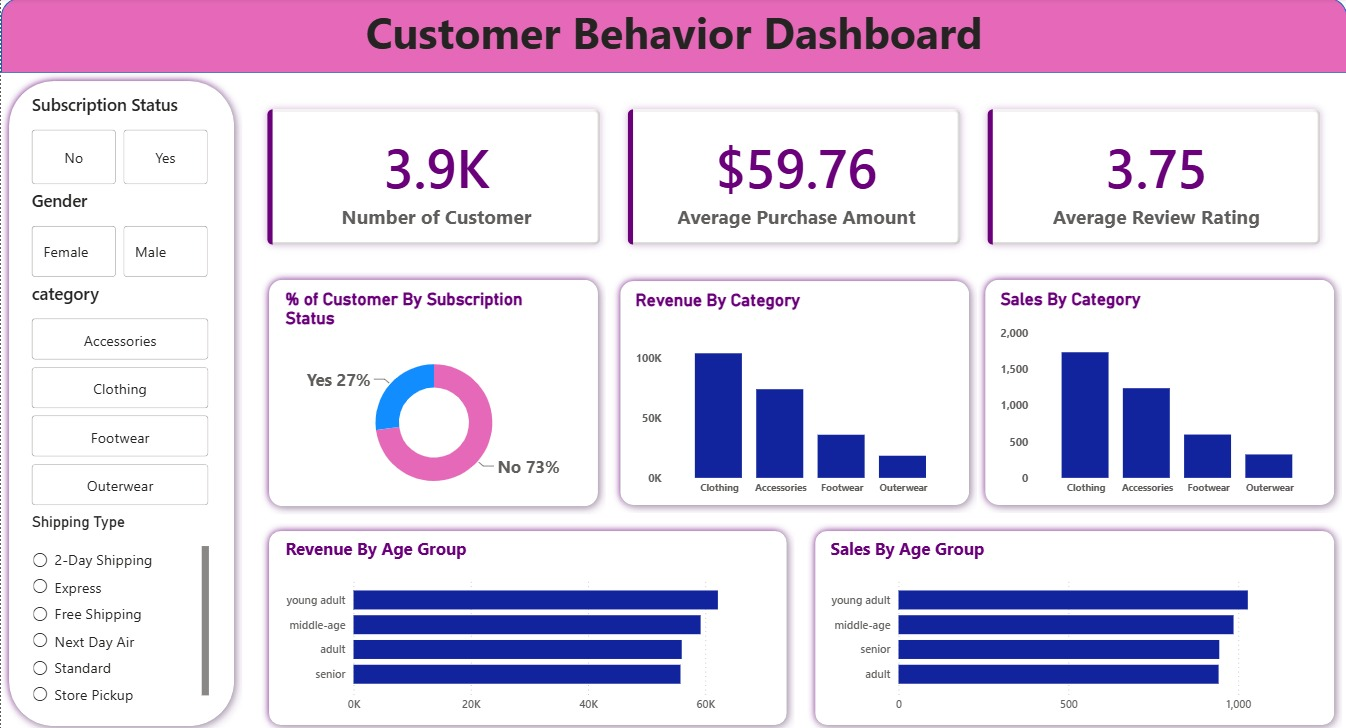

This screenshot's page, from the dashboard's own definition file:
{"tool":"powerbi","page":{"name":"Page 1","canvas":[1500,820],"ordinal":0},"visuals":[{"type":"cardVisual","fields":{"Data":["customer_behavior customer.Number of Customer","customer_behavior customer.Average Purchase Amount","customer_behavior customer.Average Review Rating"]},"box":[268.8,96.1,1231.1,207.5],"z":0},{"type":"shape","box":[0,0,1499.9,83.6],"z":1000},{"type":"textbox","box":[0,0,1499.9,83.6],"z":2000},{"type":"shape","box":[289.7,305,384.4,270.2],"z":3000},{"type":"donutChart","title":"% of Customer By Subscription Status","fields":{"Category":["customer_behavior customer.subscription_status"],"Y":["CountNonNull(customer_behavior customer.customer_id)"]},"box":[312,324.5,341.2,238.1],"z":4000},{"type":"shape","box":[681,306.4,406.7,267.4],"z":5000},{"type":"clusteredColumnChart","title":"Revenue By Category","fields":{"Y":["Sum(customer_behavior customer.purchase_amount)"],"Category":["customer_behavior customer.category"]},"box":[701.9,325.9,363.5,236.8],"z":6000},{"type":"shape","box":[1087.7,305,406.7,268.8],"z":7000},{"type":"clusteredColumnChart","title":"Sales By Category","fields":{"Category":["customer_behavior customer.category"],"Y":["CountNonNull(customer_behavior customer.customer_id)"]},"box":[1108.6,324.5,364.9,238.1],"z":8000},{"type":"shape","box":[0,83.6,268.8,736.7],"z":9000},{"type":"advancedSlicerVisual","fields":{"Values":["customer_behavior customer.subscription_status"]},"box":[29.2,105.8,207.5,107.2],"z":10000},{"type":"advancedSlicerVisual","fields":{"Values":["customer_behavior customer.category"]},"box":[29.2,316.1,207.5,257.6],"z":11000},{"type":"listSlicer","fields":{"Values":["customer_behavior customer.shipping_type"]},"box":[29.2,573.8,207.5,220],"z":12000},{"type":"shape","box":[289.7,584.9,594.7,234],"z":13000},{"type":"clusteredBarChart","title":"Revenue By Age Group","fields":{"Y":["Sum(customer_behavior customer.purchase_amount)"],"Category":["customer_behavior customer.age_group"]},"box":[312,600.2,554.3,204.7],"z":14000},{"type":"shape","box":[898.3,584.9,596.1,234],"z":15000},{"type":"clusteredBarChart","title":"Sales By Age Group","fields":{"Y":["CountNonNull(customer_behavior customer.customer_id)"],"Category":["customer_behavior customer.age_group"]},"box":[919.2,600.2,554.3,204.7],"z":16000},{"type":"advancedSlicerVisual","fields":{"Values":["customer_behavior customer.gender"]},"box":[29.2,213.1,207.5,103.1],"z":16001}]}

Visuals, with their boxes in screenshot pixels (x1, y1, x2, y2), scaled from the page's 1500x820 canvas onto the 1346x728 screenshot:
cardVisual - customer_behavior customer.Number of Customer x customer_behavior customer.Average Purchase Amount: {"left": 241, "top": 85, "right": 1345, "bottom": 270}
shape: {"left": 0, "top": 0, "right": 1345, "bottom": 74}
textbox: {"left": 0, "top": 0, "right": 1345, "bottom": 74}
shape: {"left": 260, "top": 271, "right": 605, "bottom": 511}
"% of Customer By Subscription Status" donutChart: {"left": 280, "top": 288, "right": 586, "bottom": 499}
shape: {"left": 611, "top": 272, "right": 976, "bottom": 509}
"Revenue By Category" clusteredColumnChart: {"left": 630, "top": 289, "right": 956, "bottom": 500}
shape: {"left": 976, "top": 271, "right": 1341, "bottom": 509}
"Sales By Category" clusteredColumnChart: {"left": 995, "top": 288, "right": 1322, "bottom": 499}
shape: {"left": 0, "top": 74, "right": 241, "bottom": 727}
advancedSlicerVisual - customer_behavior customer.subscription_status: {"left": 26, "top": 94, "right": 212, "bottom": 189}
advancedSlicerVisual - customer_behavior customer.category: {"left": 26, "top": 281, "right": 212, "bottom": 509}
listSlicer - customer_behavior customer.shipping_type: {"left": 26, "top": 509, "right": 212, "bottom": 705}
shape: {"left": 260, "top": 519, "right": 794, "bottom": 727}
"Revenue By Age Group" clusteredBarChart: {"left": 280, "top": 533, "right": 777, "bottom": 715}
shape: {"left": 806, "top": 519, "right": 1341, "bottom": 727}
"Sales By Age Group" clusteredBarChart: {"left": 825, "top": 533, "right": 1322, "bottom": 715}
advancedSlicerVisual - customer_behavior customer.gender: {"left": 26, "top": 189, "right": 212, "bottom": 281}
